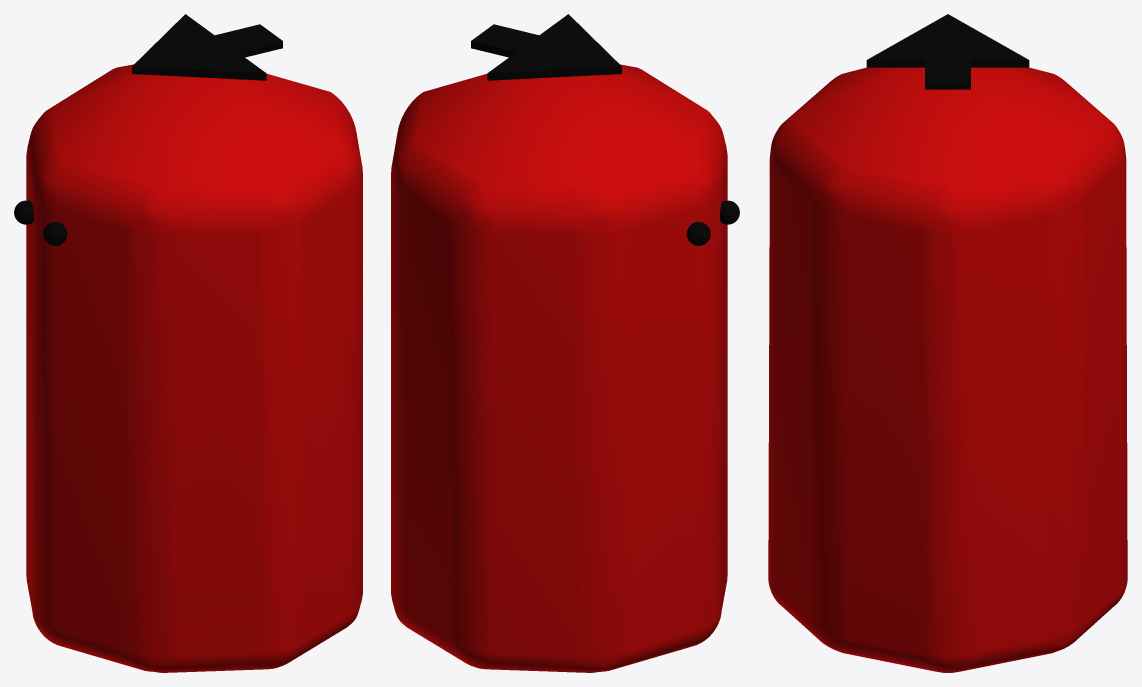
Rendered from sred.obj.
3 views of the same model, side by side, from view 1: azimuth 30°, elevation 25°; view 2: azimuth 150°, elevation 25°; view 3: azimuth 270°, elevation 25° (orthographic).
Visible parts, largest first — view 1: Cube.020_Cube.006; view 2: Cube.020_Cube.006; view 3: Cube.020_Cube.006.
Part boxes in pixels (<box>): Cube.020_Cube.006: <box>14,14,362,672</box>; Cube.020_Cube.006: <box>391,14,739,672</box>; Cube.020_Cube.006: <box>768,14,1127,672</box>.
Bounding box in the file's own units: 0.2642 × 0.4425 × 0.2565.
